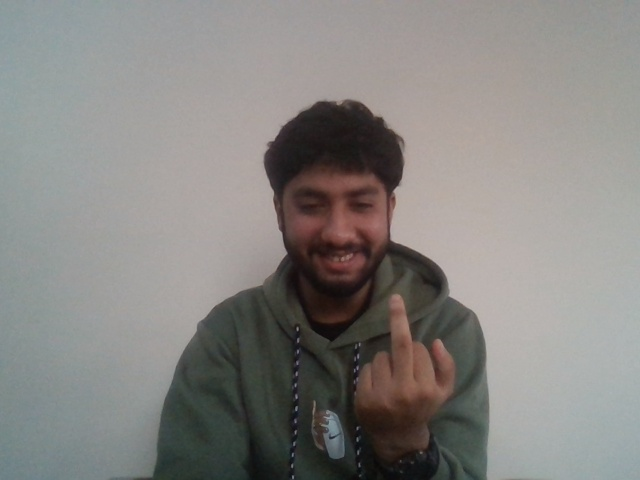Hello: (344, 292, 460, 431)
